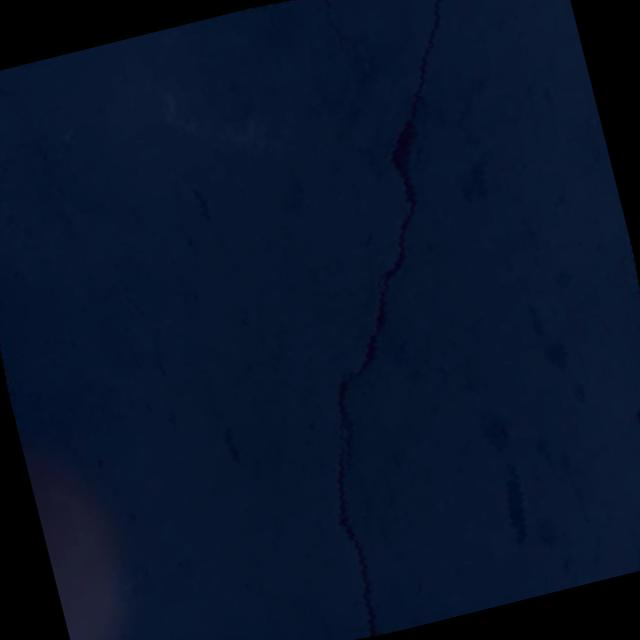crack: (205, 0, 630, 639), (314, 0, 368, 106)
